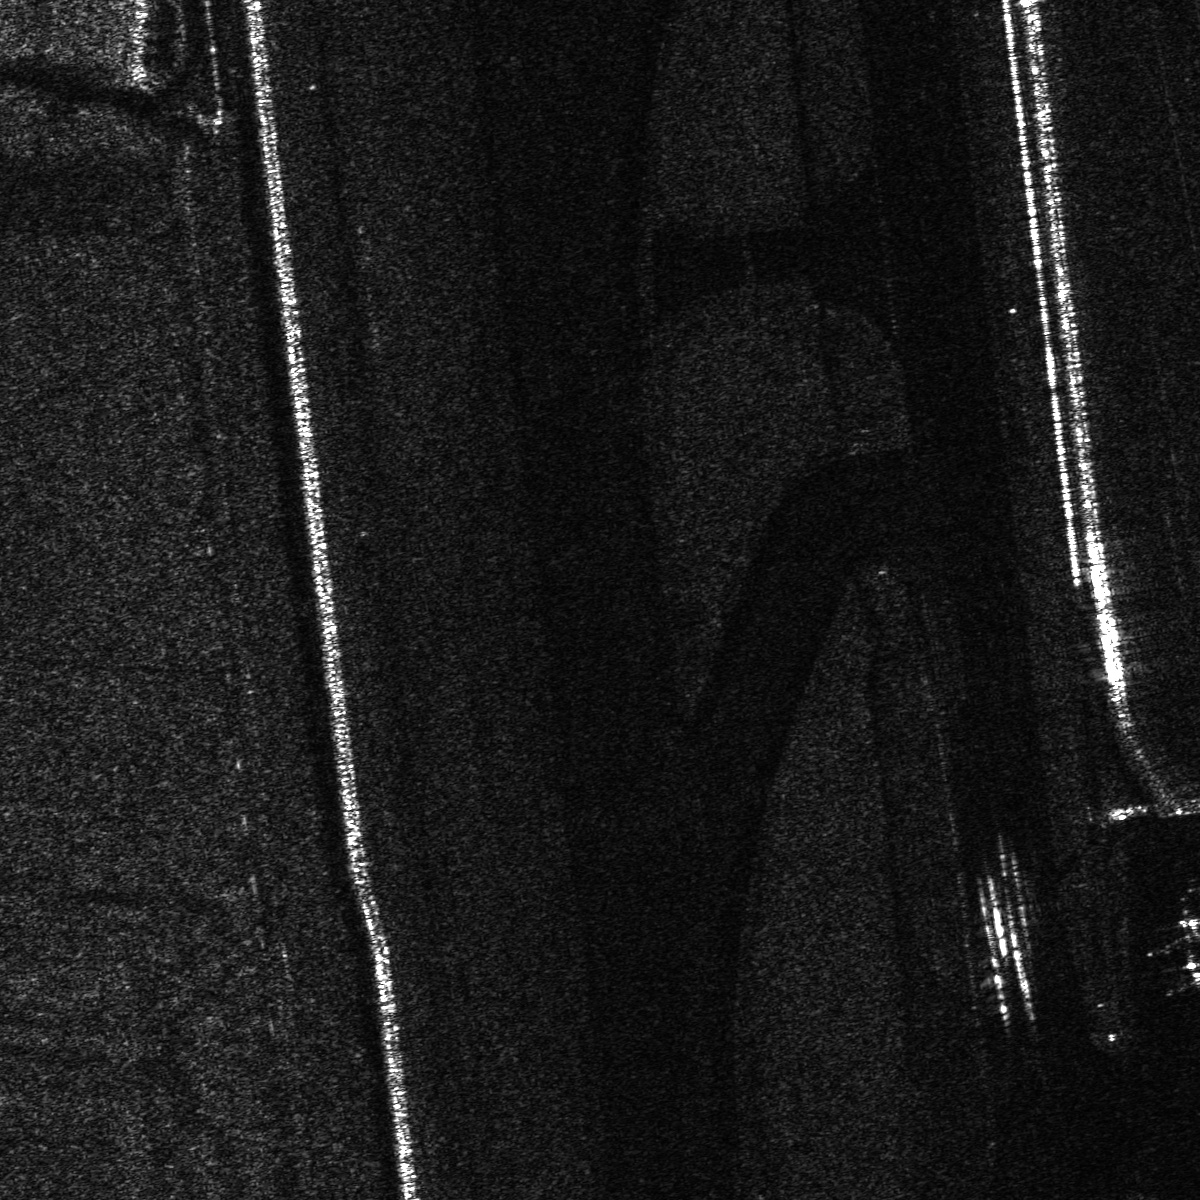A220: (1145, 911, 1199, 990)
